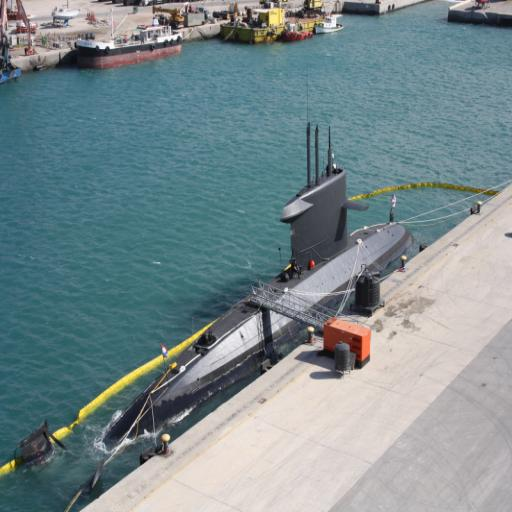submarine: (103, 124, 416, 455)
